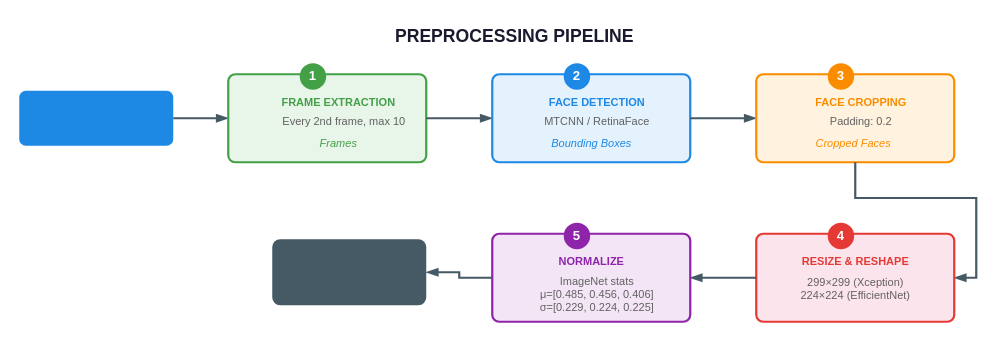
Some shapes in this 1004 by 341 pixel diagram are drawn without their labels. Here are the shapes that lost their labels. From the top down, the centre of each, then its label:
(96,117): Video Input (MP4/AVI)
(349,272): Model-Ready Tensors
